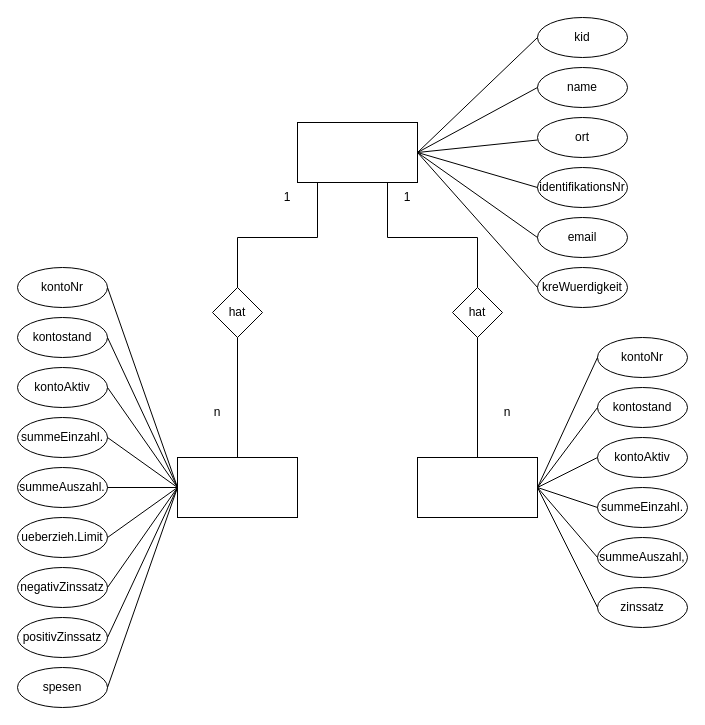
Some shapes in this 705 by 725 pixel diagram are drawn without their labels. The shapes that lost their labels are listed below. From the top down, each one's box as (x1, y1, x2, y2) in pixels, then its label:
(296, 122, 418, 182): kunde
(176, 456, 298, 518): girokonto
(416, 456, 538, 518): sparkonto
